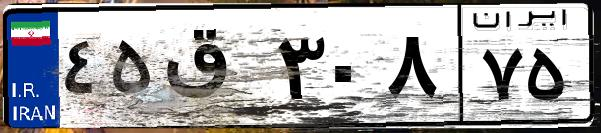0: (330, 28, 385, 110)
3: (270, 28, 330, 110)
4: (57, 26, 110, 100)
5: (525, 38, 570, 115), (110, 28, 158, 98)
7: (475, 38, 525, 113)
8: (385, 28, 445, 110)
ق: (158, 20, 270, 120)
